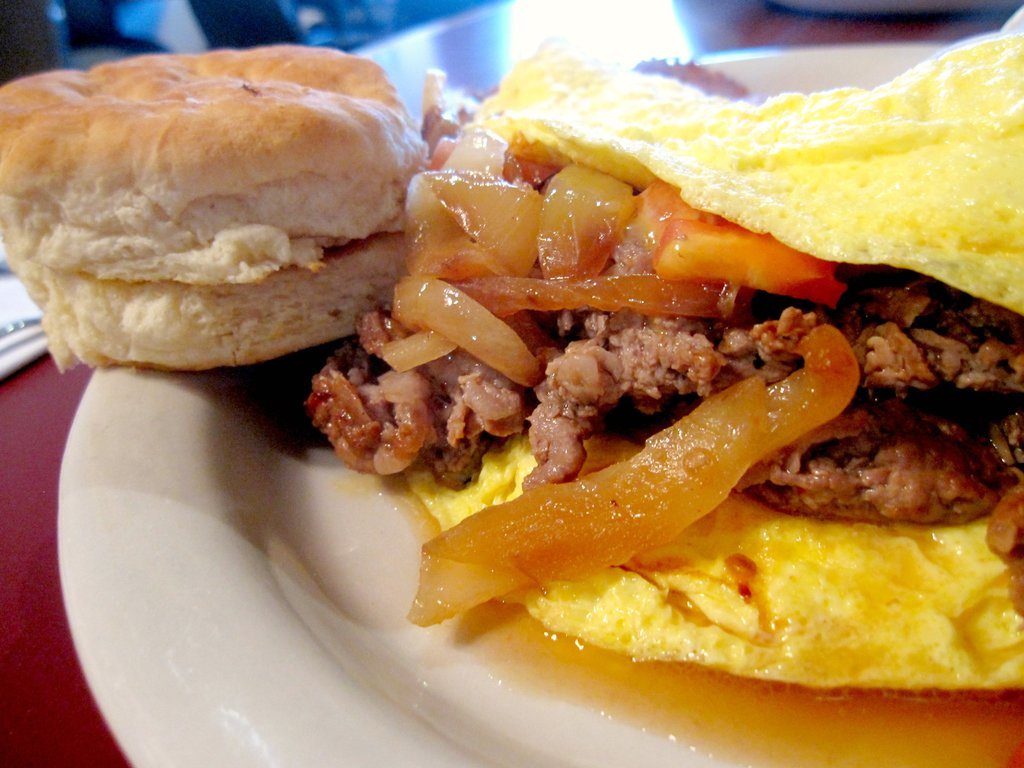Hamburger: (304, 33, 1023, 687)
